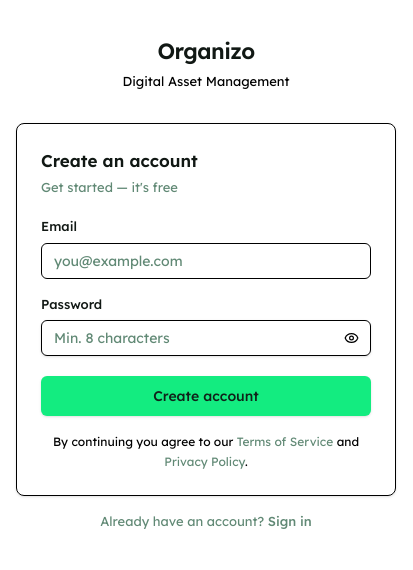
Scenario: SignUpPage › validation › shows 'At least 8 characters' for a short password
Type "user@example.com" into the field labelled "Email". click: (206, 260)
box: [41,242,371,278]
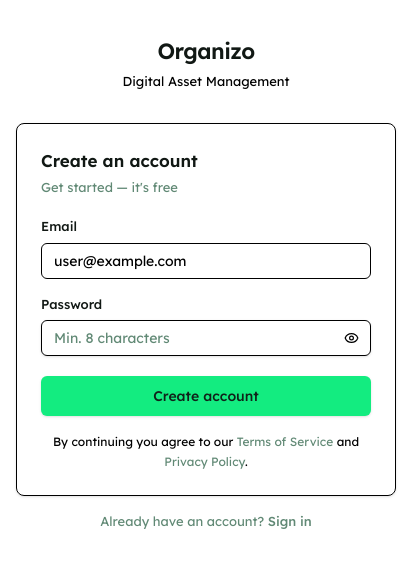
Type "short" into the password field labelled "Password". click: (206, 338)
box: [41,320,371,356]
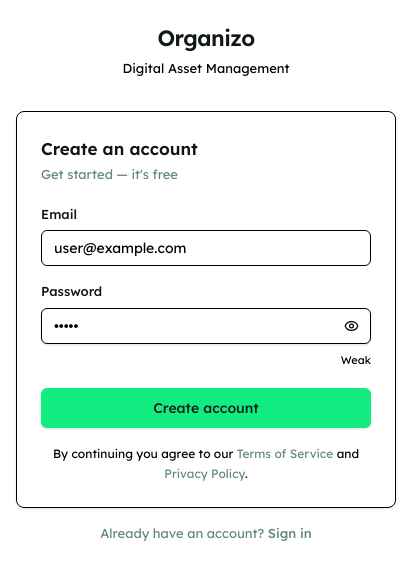
Click the button "Create account". click: (206, 408)
box: [41,388,371,428]
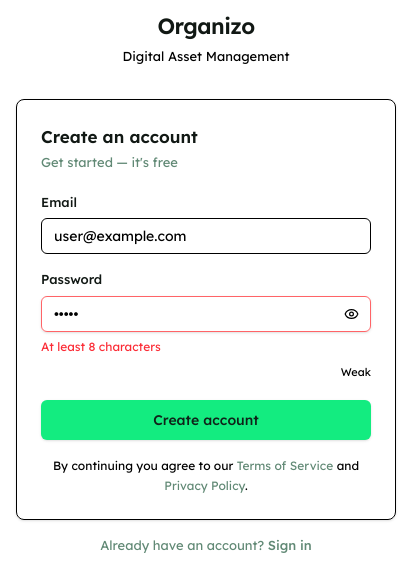
Expected: the text "At least 8 characters" is shown, [41,339,161,354]
